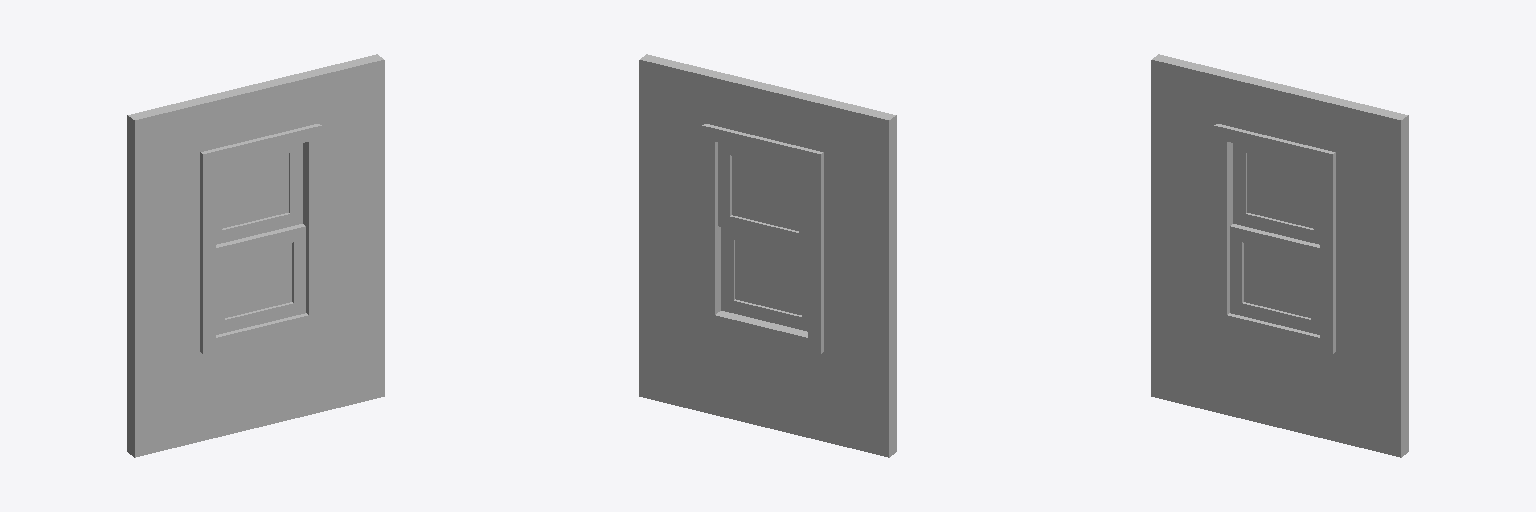
File: wallWindowSlide.obj
The picture shows the model from 3 angles: view 1: azimuth 30°, elevation 25°; view 2: azimuth 150°, elevation 25°; view 3: azimuth 330°, elevation 25°; orthographic projection.
Parts seen in each view (by area): view 1: wallWindowSlide, windowBottom, windowTop; view 2: wallWindowSlide, windowTop, windowBottom; view 3: wallWindowSlide, windowBottom, windowTop.
Part boxes in pixels (x1,y1,x2,y2): wallWindowSlide: (127,54,384,457); windowBottom: (216,224,305,334); windowTop: (216,143,302,244); wallWindowSlide: (639,54,896,457); windowTop: (718,142,807,247); windowBottom: (721,227,807,331); wallWindowSlide: (1151,54,1408,457); windowBottom: (1230,224,1319,334); windowTop: (1233,143,1319,244).
Size of the model in its own units: 10 by 12.9 by 0.891.